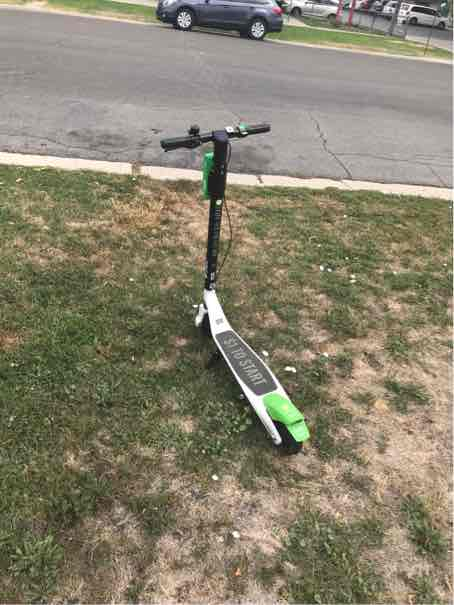scooter: (153, 118, 323, 464)
